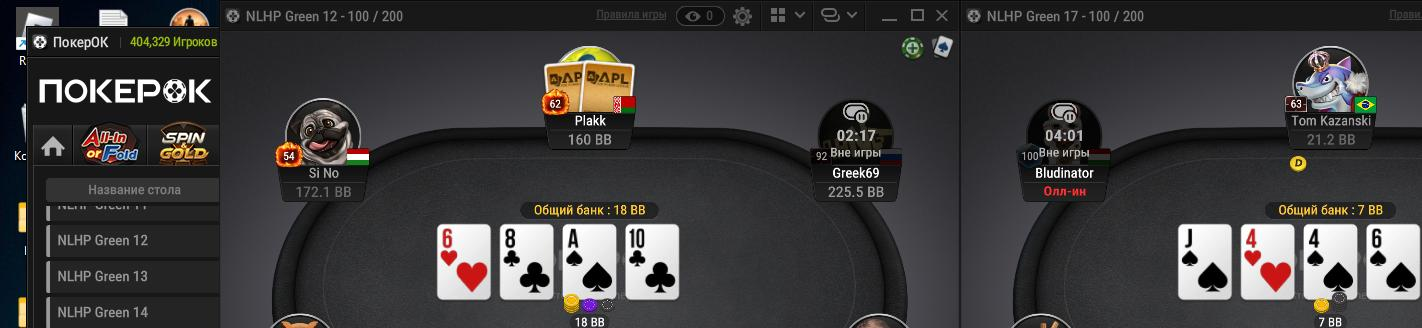10c: (627, 225, 679, 299)
4h: (1242, 224, 1296, 299)
4s: (1305, 224, 1356, 298)
6c: (1366, 225, 1419, 299)
6h: (437, 225, 492, 300)
8c: (501, 222, 553, 296)
As: (566, 226, 615, 296)
Js: (1179, 224, 1232, 300)
